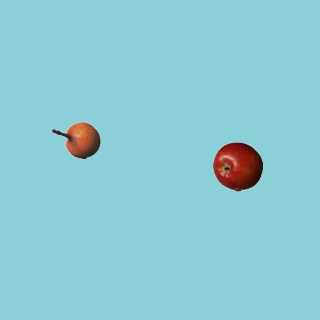Apple Braeburn: (212, 141, 262, 191)
Granadilla: (50, 115, 100, 165)
